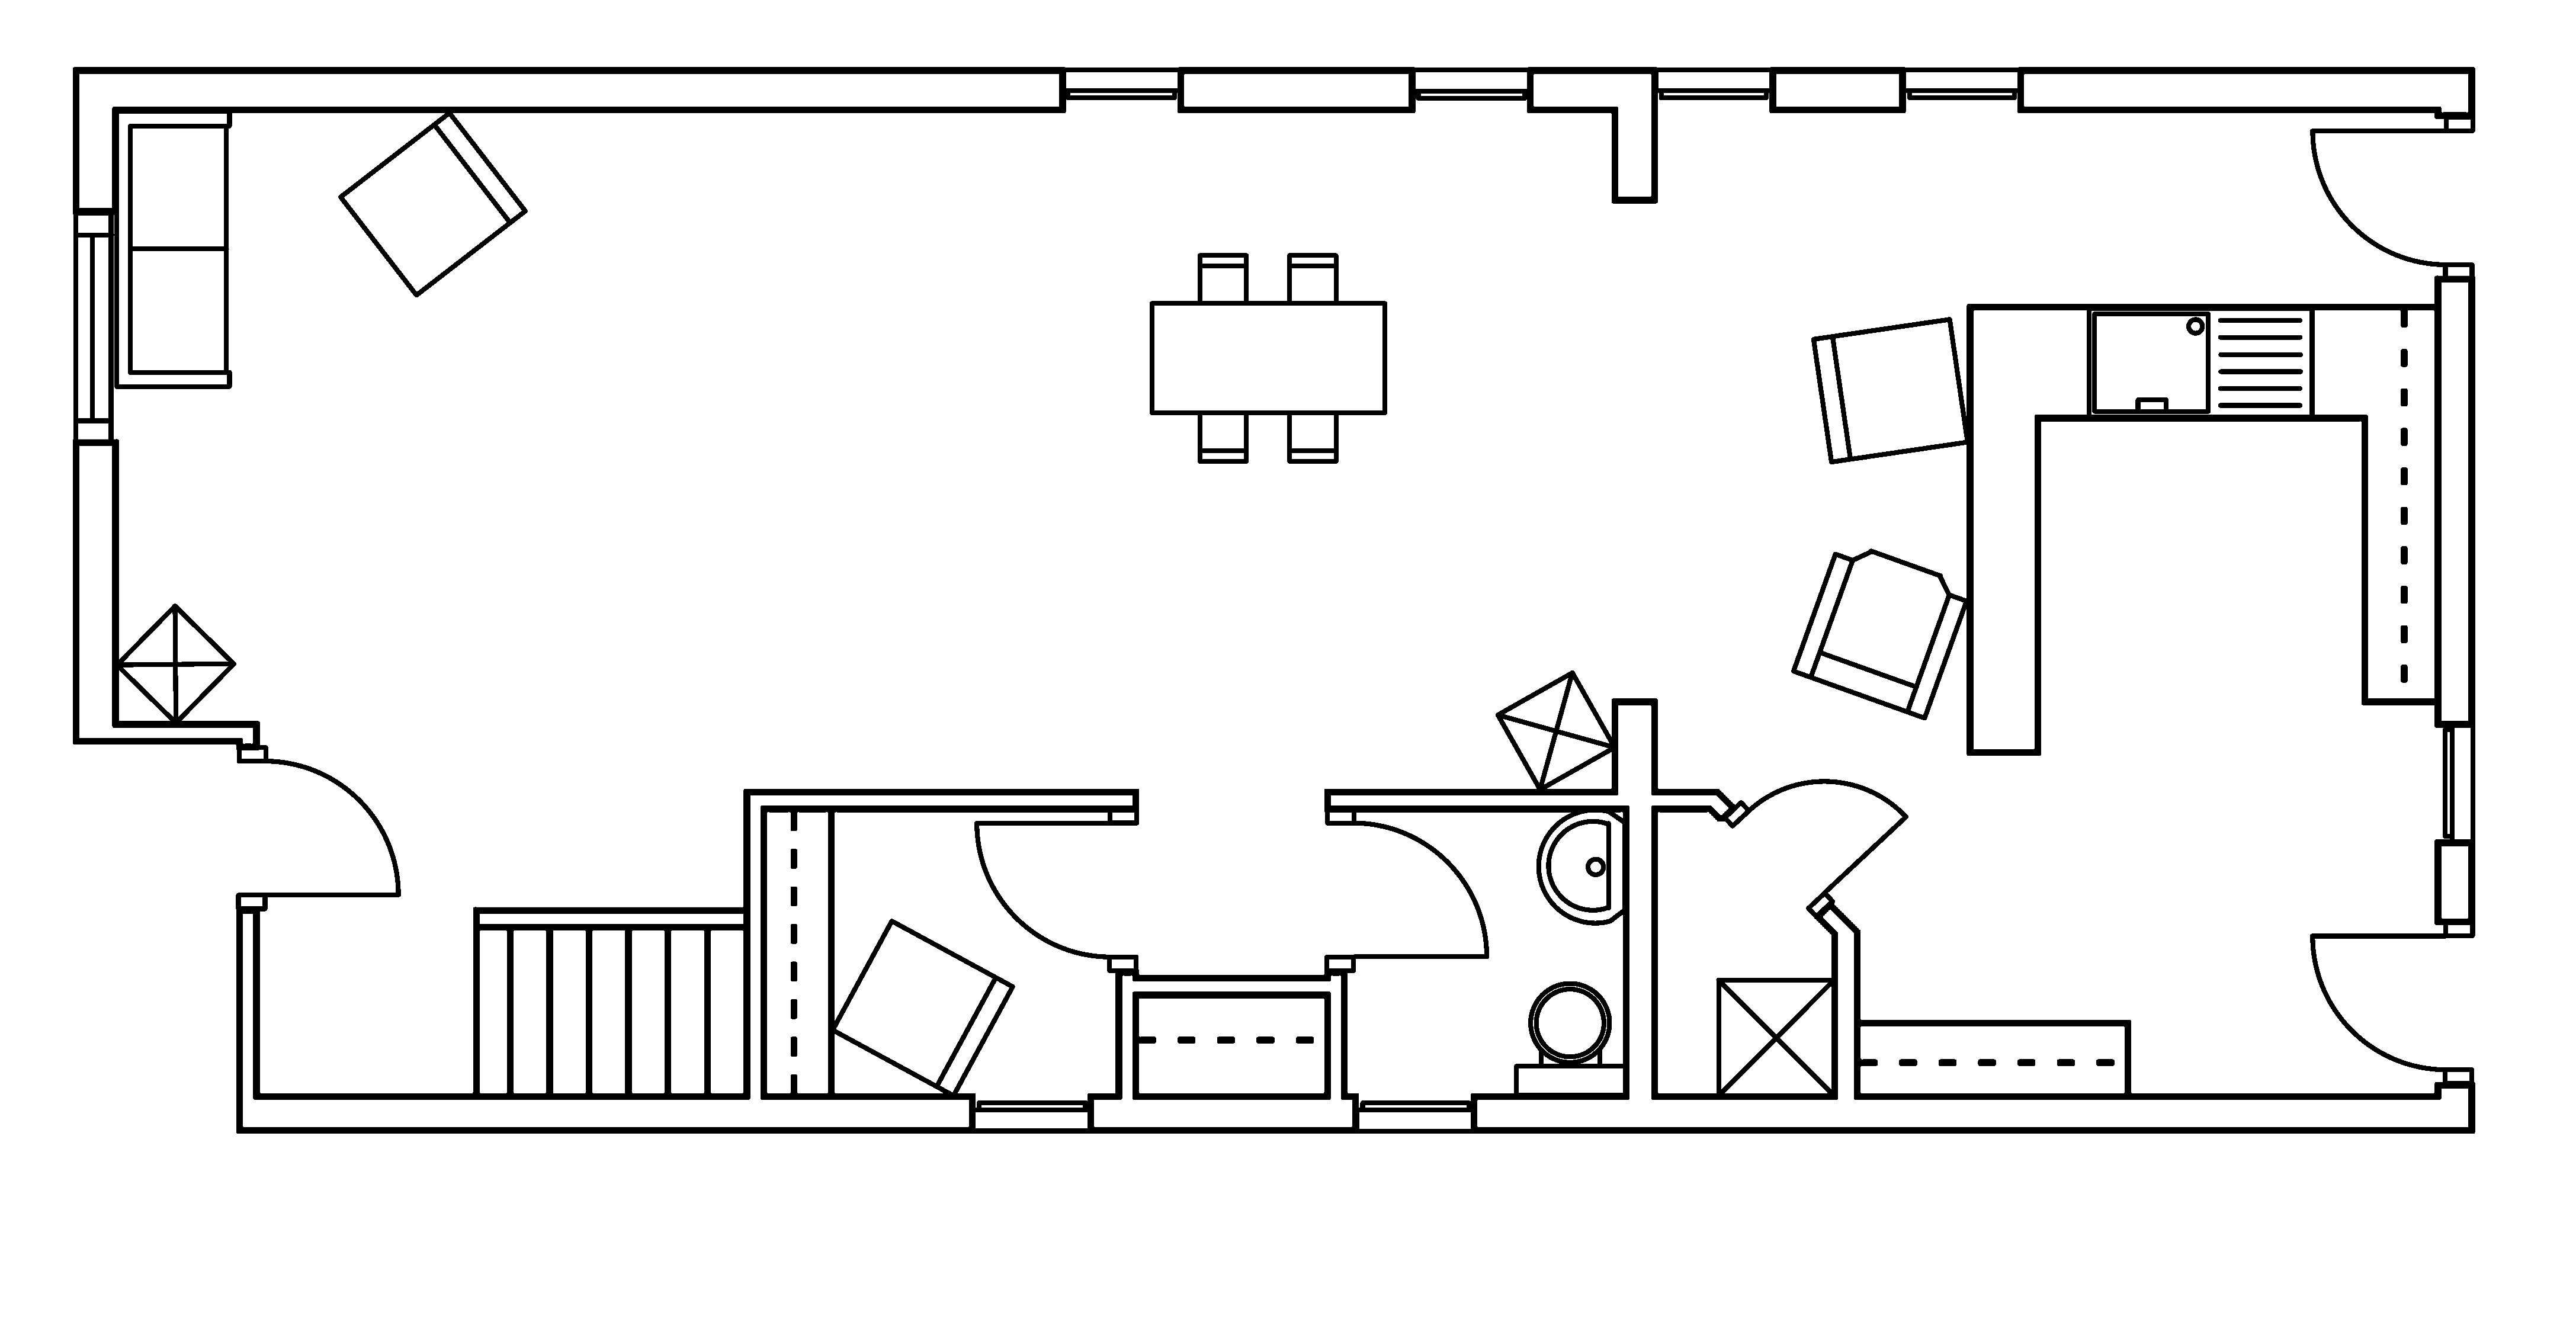armchair: (1791, 547, 1969, 720)
coffee_table: (1493, 670, 1618, 792), (113, 602, 237, 725), (1715, 976, 1836, 1099)
dining_table: (1148, 252, 1387, 464)
large_sink: (1513, 981, 1628, 1097)
large_sofa: (113, 108, 232, 389)
sink: (2085, 305, 2314, 421)
small_sink: (1535, 808, 1628, 925)
small_sofa: (336, 109, 528, 298), (829, 917, 1016, 1099), (1811, 316, 1971, 464)
